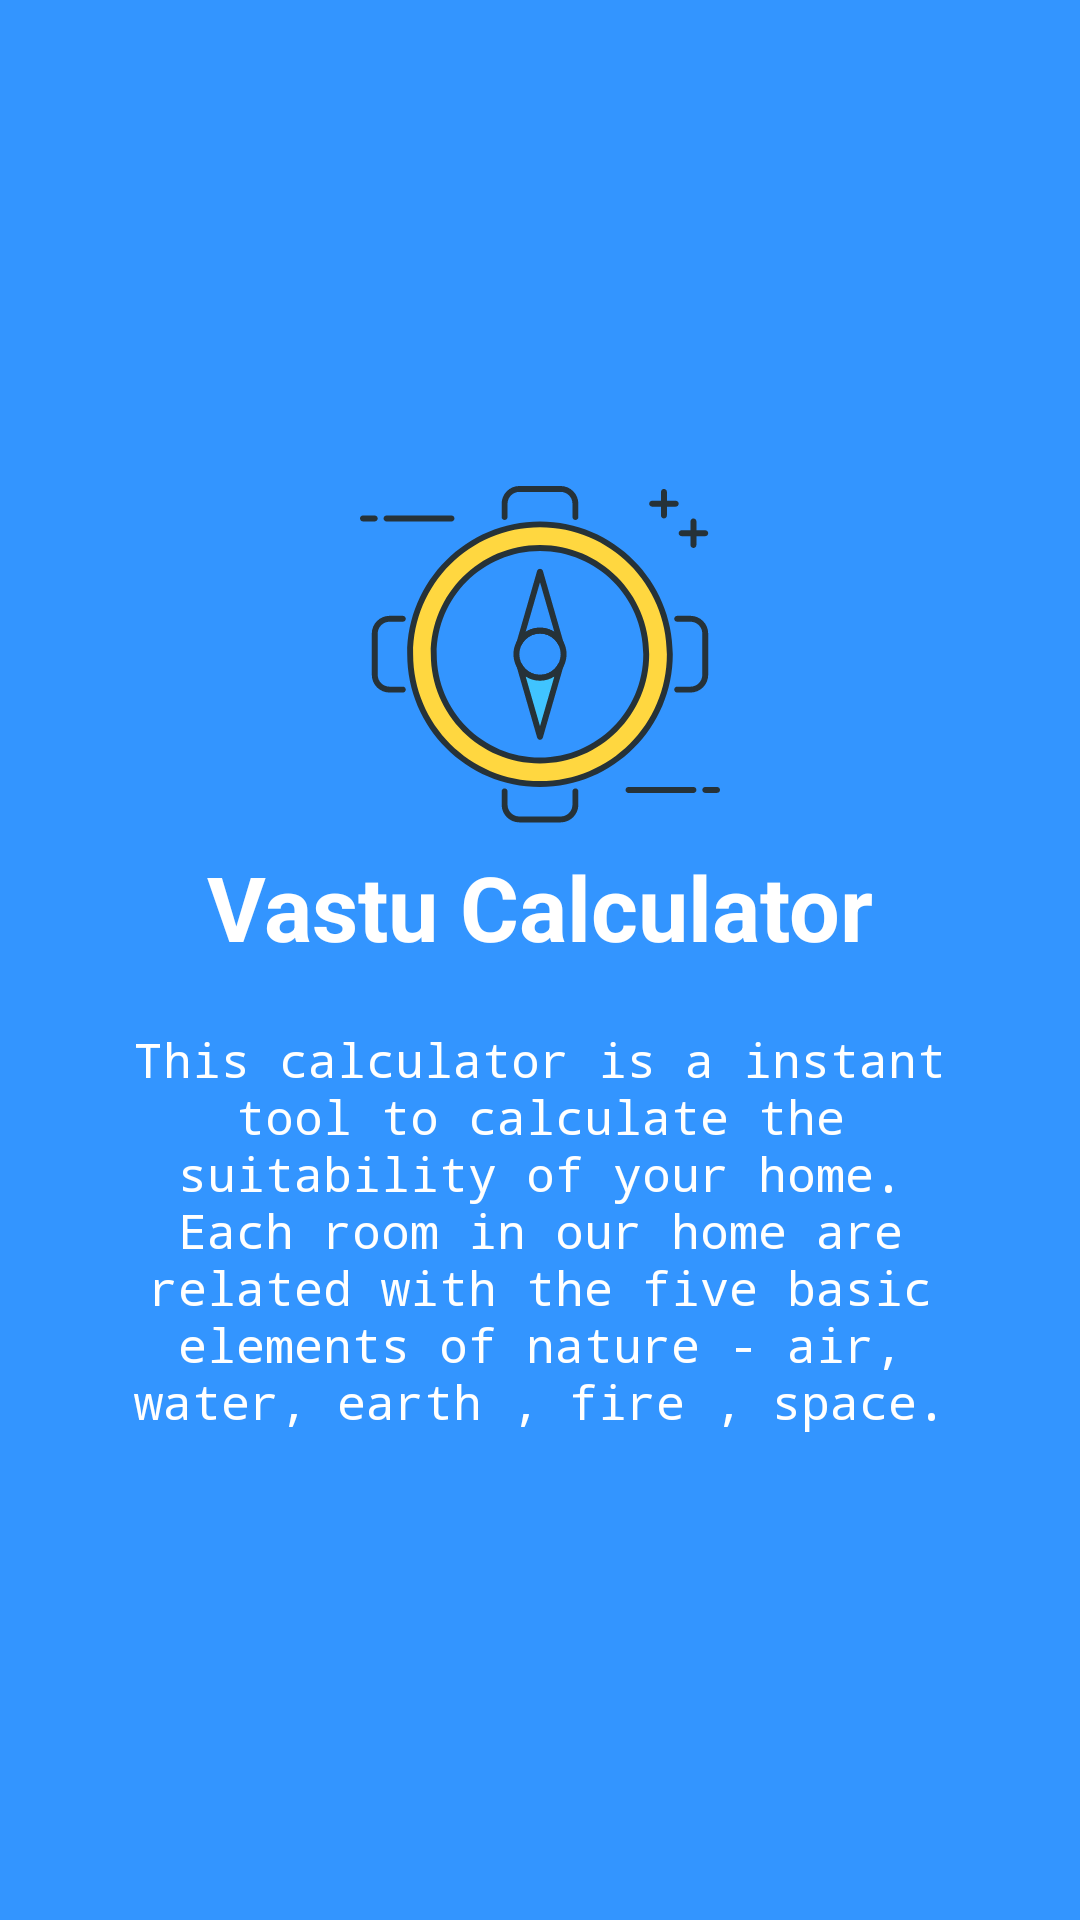

Locate icon controls on the screen. Image size 1080px x 1920px, boxes as (x1, y1, x2, y2).
compass: (360, 486, 720, 823)
